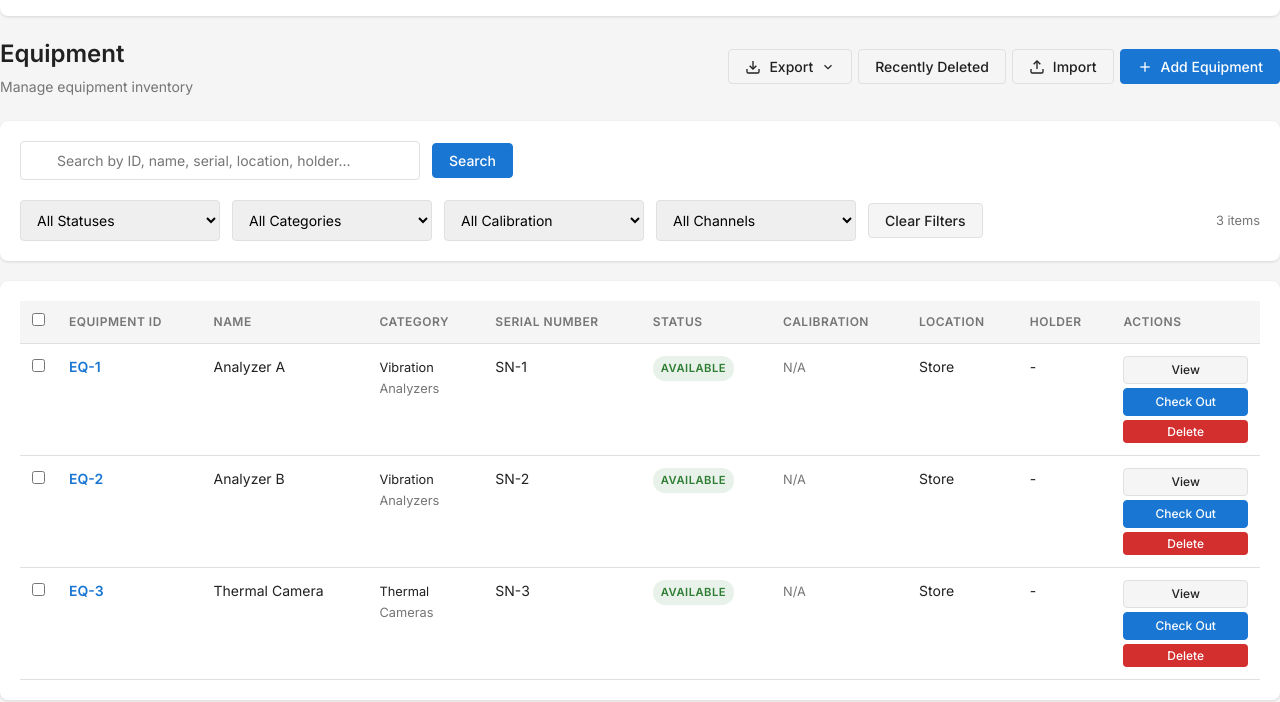
Test: Equipment bulk edit › selecting multiple rows works
The image size is (1280, 702).
(page scrolled)
Click the checkbox named "Select EQ-1" at [38, 366], box 32,359 -> 45,372
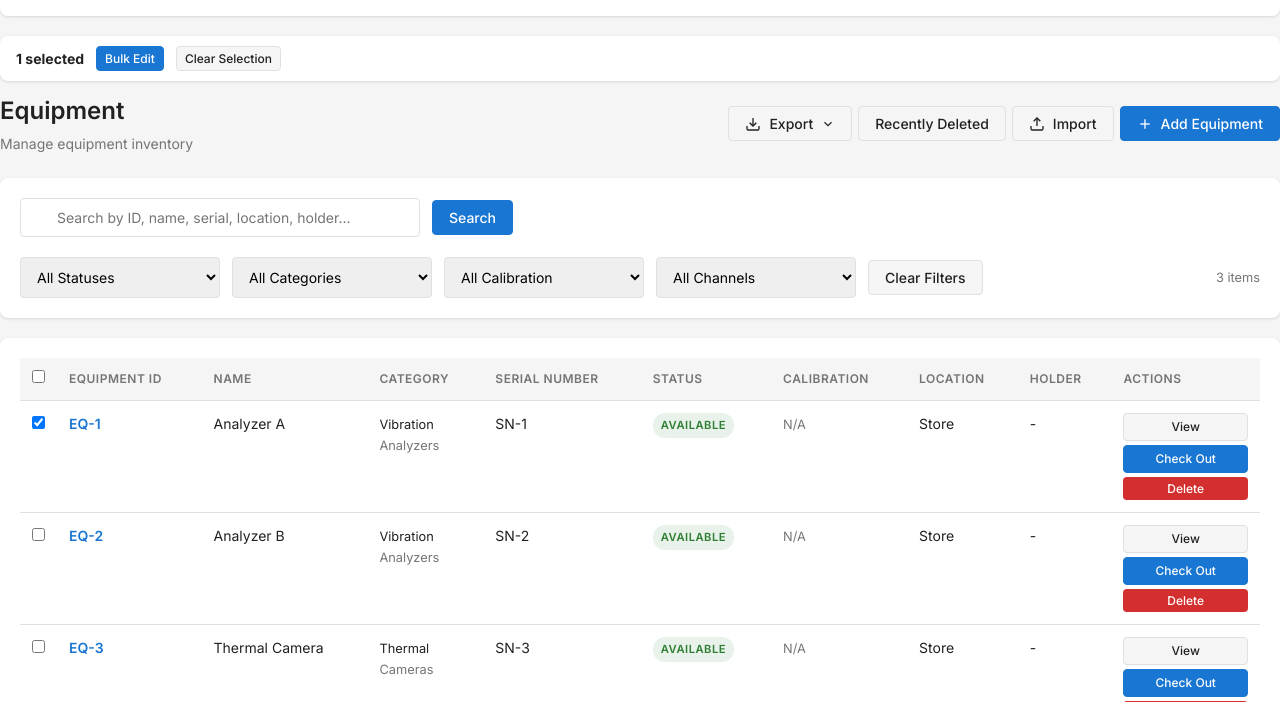
Click the checkbox named "Select EQ-2" at [38, 534], box 32,528 -> 45,541
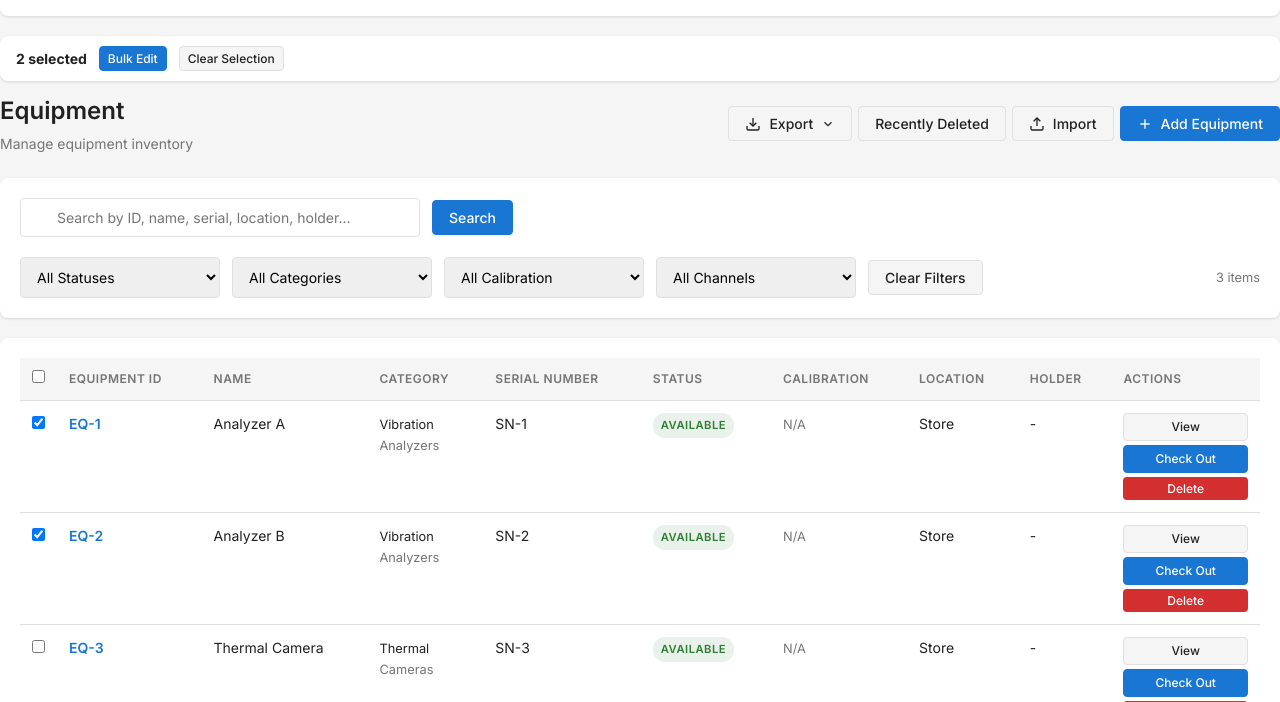
Expected: the text "2 selected" is shown, 16,48 -> 87,69
